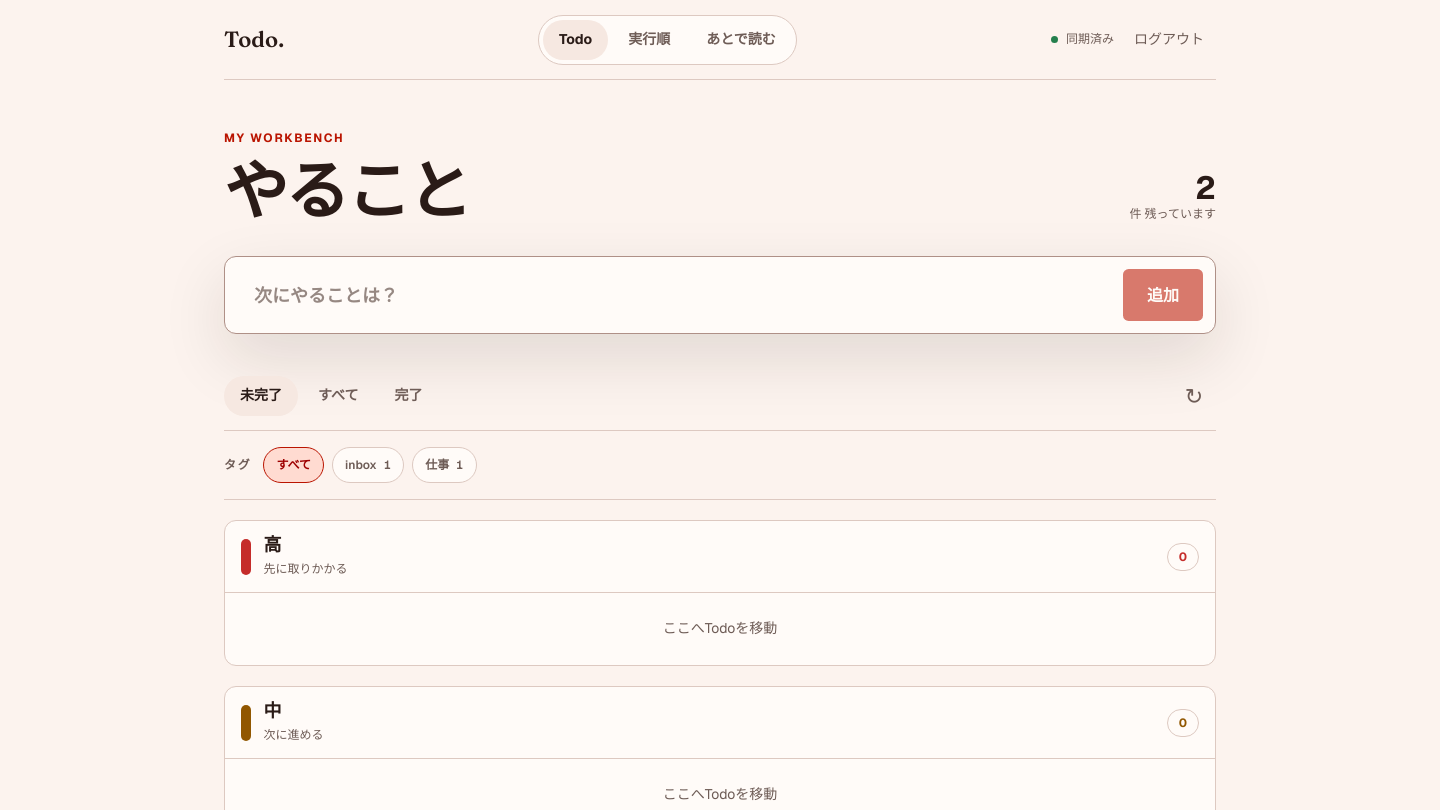
it: TodoWorkspace completed list › shows completed todos as a flat list with priority text and no move handle
Click the button with class "filter-button" showing "完了" at {"x": 408, "y": 396}, box x1=378 y1=376 x2=438 y2=416
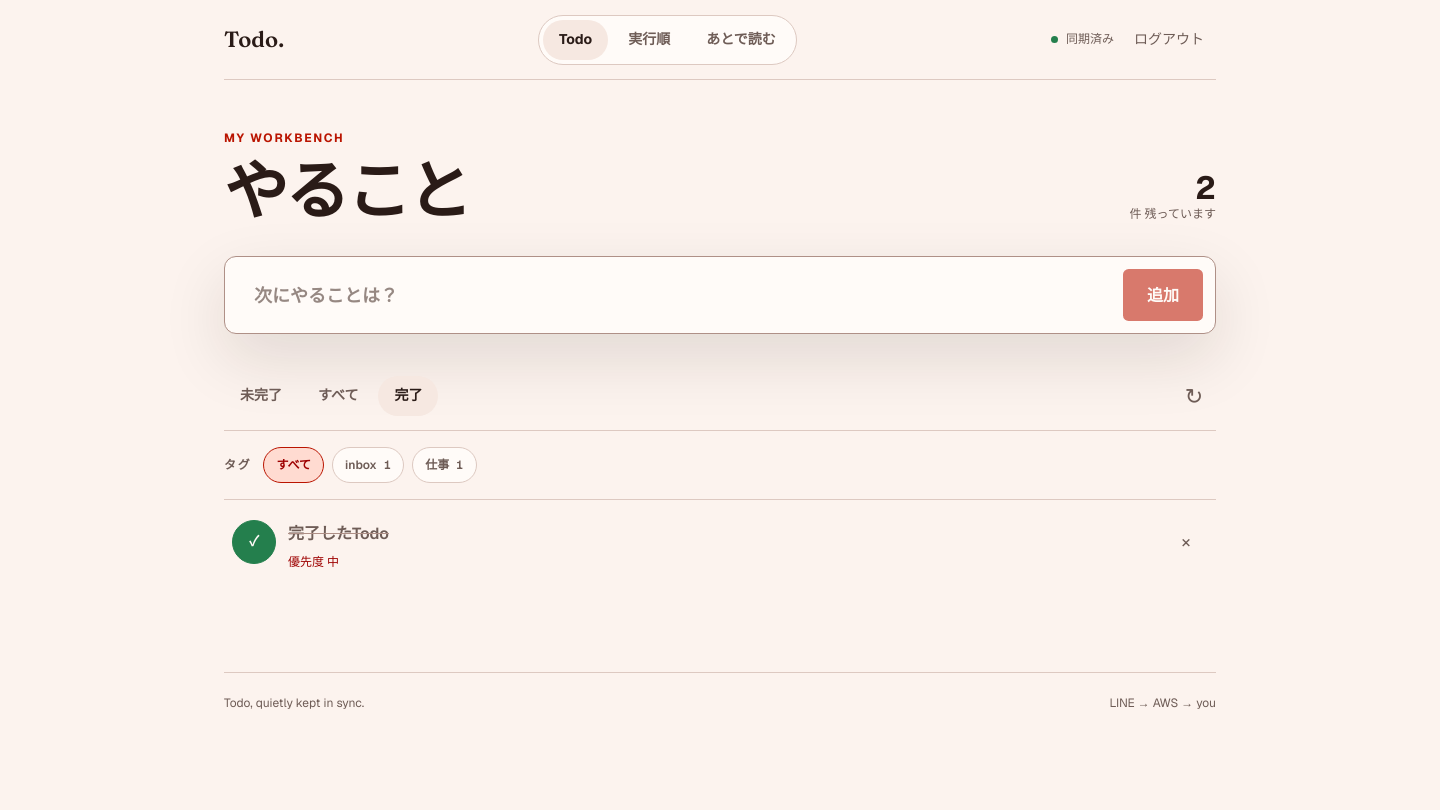
Check: the list with class "completed-list" shows "完了したTodo", box x1=288 y1=520 x2=1152 y2=572
Check: the list with class "completed-list" shows "優先度 中", box x1=288 y1=520 x2=1152 y2=572
Check: the button with class "delete-button" is shown, box x1=1164 y1=520 x2=1208 y2=564
